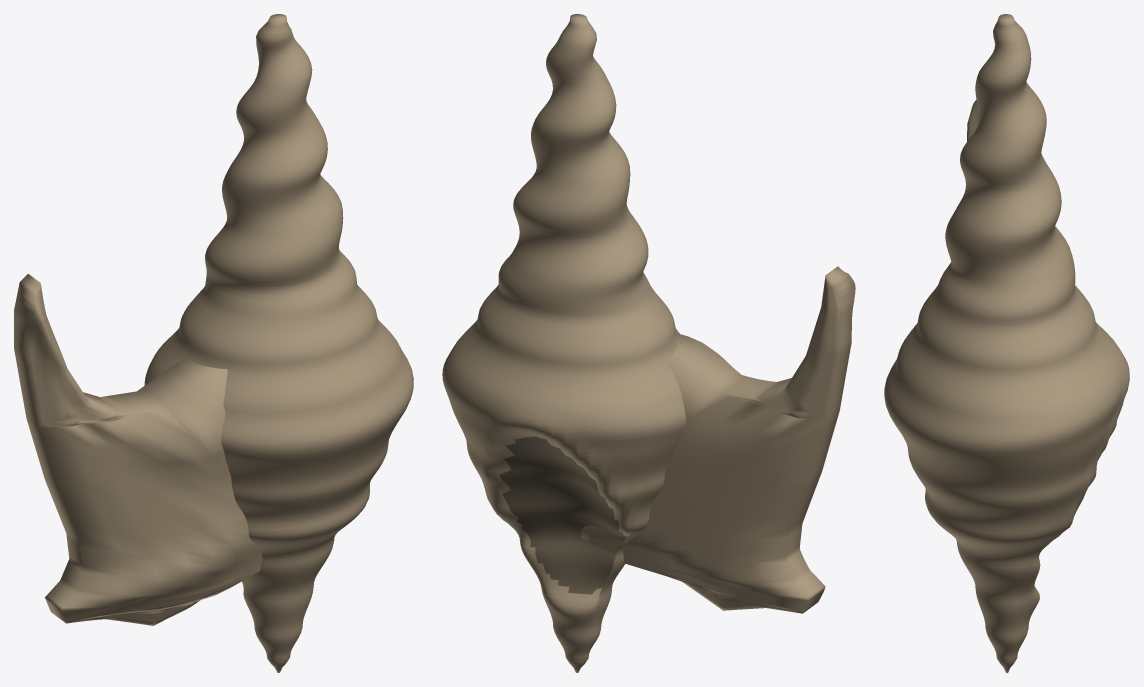
3 renders of one model, left to right at view 1: azimuth 30°, elevation 25°; view 2: azimuth 150°, elevation 25°; view 3: azimuth 270°, elevation 25°, orthographic.
Parts seen in each view (by area): view 1: Preserved_body_and_stepped_spire, Attached_wing_two_unequal_processes; view 2: Preserved_body_and_stepped_spire, Attached_wing_two_unequal_processes; view 3: Preserved_body_and_stepped_spire.
Part boxes in pixels (x1=…): Preserved_body_and_stepped_spire: x1=144, y1=14, x2=413, y2=672; Attached_wing_two_unequal_processes: x1=14, y1=273, x2=262, y2=625; Preserved_body_and_stepped_spire: x1=442, y1=14, x2=685, y2=672; Attached_wing_two_unequal_processes: x1=580, y1=266, x2=855, y2=613; Preserved_body_and_stepped_spire: x1=884, y1=14, x2=1129, y2=672.
Size of the model in its own units: 0.0615 by 0.1 by 0.034.
